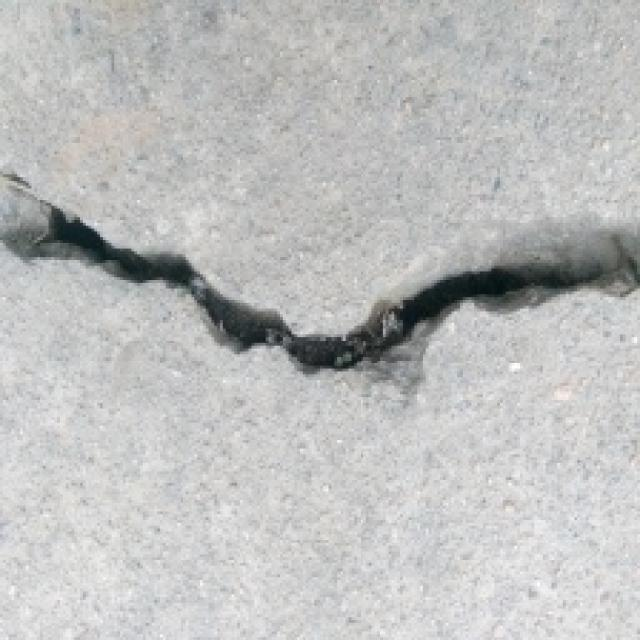SurfaceCrack: (2, 148, 640, 388)
